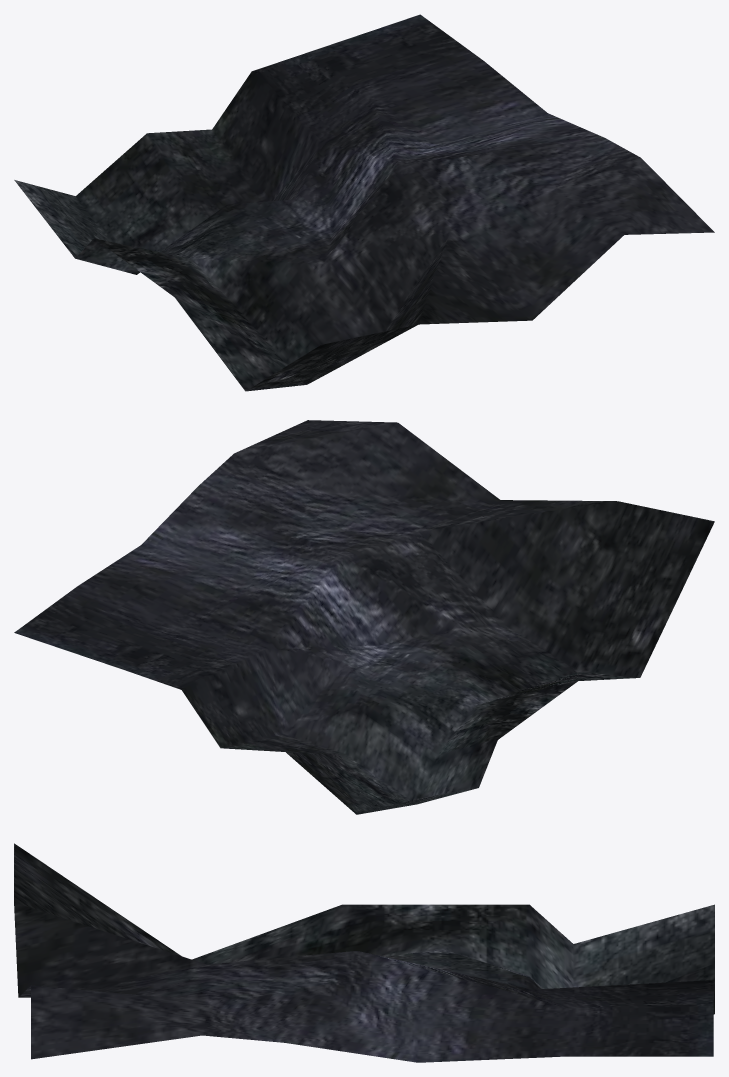
3 views of the same model, one above another, from view 1: azimuth 30°, elevation 25°; view 2: azimuth 150°, elevation 25°; view 3: azimuth 270°, elevation 25° (orthographic). The views are drawn at different scales.
Visible parts, largest first — view 1: model_Object33; view 2: model_Object33; view 3: model_Object33.
Part boxes in pixels (bbox=[...]): model_Object33: bbox=[14, 14, 714, 391]; model_Object33: bbox=[14, 420, 714, 814]; model_Object33: bbox=[14, 843, 714, 1062].
Bounding box in the file's own units: 3.59 × 1.27 × 4.64.
Materials: 1 (1 with a texture image).
